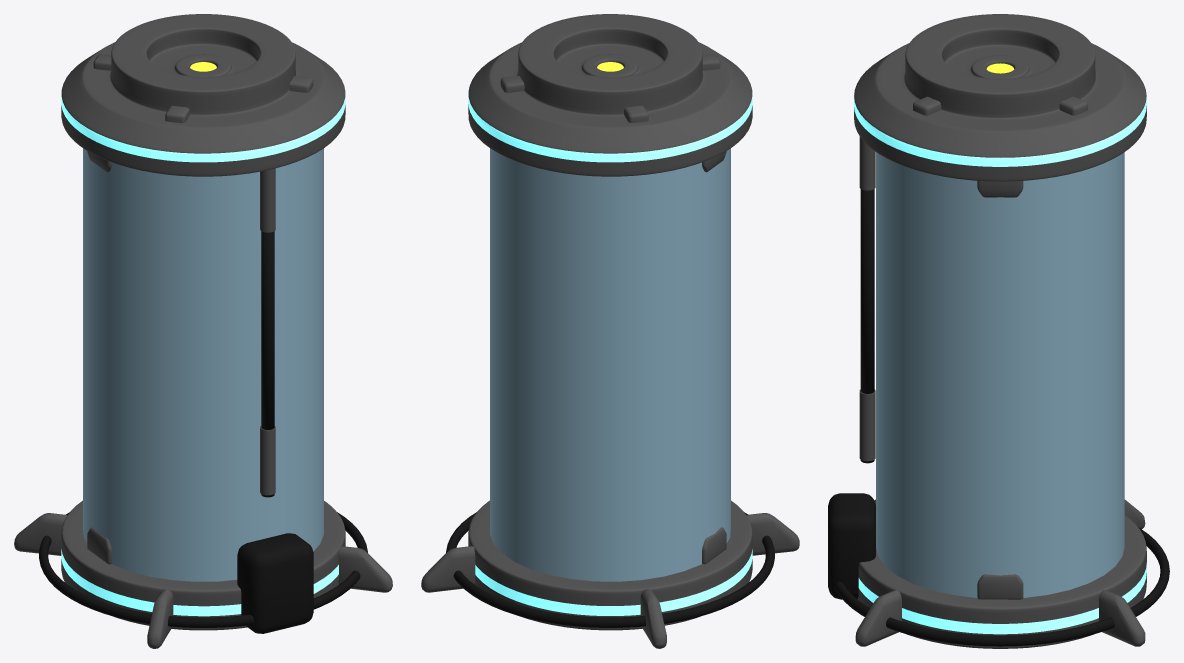
Rendered from Robot Egg 2x2.fbx.
3 renders of one model, left to right at view 1: azimuth 30°, elevation 25°; view 2: azimuth 150°, elevation 25°; view 3: azimuth 270°, elevation 25°, orthographic. The views are drawn at different scales.
Visible parts, largest first — view 1: Tube.002, Top.002, Base.004, Back Device.002, Supports.004, Circle.002, Cylinder.015, Cylinder.016, top_supports.002, Cylinder.017, Cube.045; view 2: Tube.002, Top.002, Base.004, Supports.004, Circle.002, top_supports.002, Cube.045; view 3: Tube.002, Top.002, Base.004, Circle.002, Back Device.002, Supports.004, Cylinder.015, Cylinder.016, Cube.045, top_supports.002, Cylinder.017, Cube.046.
Part boxes in pixels (bbox=[...]): Tube.002: bbox=[83, 148, 323, 581]; Top.002: bbox=[61, 14, 345, 176]; Base.004: bbox=[61, 500, 345, 630]; Back Device.002: bbox=[237, 533, 313, 633]; Supports.004: bbox=[14, 513, 392, 648]; Circle.002: bbox=[39, 512, 367, 627]; Cylinder.015: bbox=[261, 231, 274, 497]; Cylinder.016: bbox=[260, 426, 275, 495]; top_supports.002: bbox=[93, 54, 313, 123]; Cylinder.017: bbox=[260, 168, 275, 232]; Cube.045: bbox=[87, 527, 111, 564]; Tube.002: bbox=[490, 148, 730, 581]; Top.002: bbox=[468, 14, 752, 176]; Base.004: bbox=[468, 500, 752, 630]; Supports.004: bbox=[421, 513, 799, 648]; Circle.002: bbox=[446, 512, 774, 627]; top_supports.002: bbox=[500, 54, 720, 122]; Cube.045: bbox=[702, 527, 726, 564]; Tube.002: bbox=[876, 152, 1124, 597]; Top.002: bbox=[854, 14, 1146, 181]; Base.004: bbox=[857, 515, 1146, 648]; Circle.002: bbox=[834, 527, 1169, 646]; Back Device.002: bbox=[828, 493, 875, 599]; Supports.004: bbox=[855, 499, 1145, 646]; Cylinder.015: bbox=[860, 189, 874, 463]; Cylinder.016: bbox=[859, 389, 875, 461]; Cube.045: bbox=[977, 574, 1023, 599]; top_supports.002: bbox=[913, 96, 1087, 115]; Cylinder.017: bbox=[859, 136, 875, 190]; Cube.046: bbox=[977, 180, 1023, 197].
Size of the model in its own units: 184 by 321 by 185.
